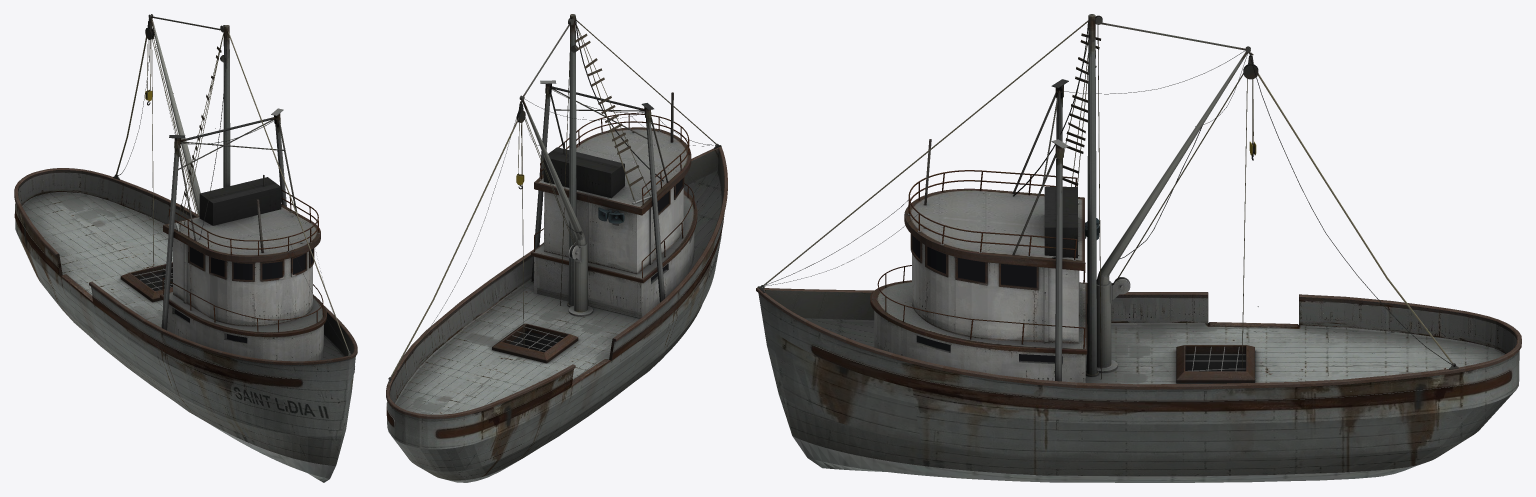
File: fishing-boat-CN_Vc8Yf.gltf
3 views of the same model, side by side, from view 1: azimuth 30°, elevation 25°; view 2: azimuth 150°, elevation 25°; view 3: azimuth 270°, elevation 25° (orthographic). The views are drawn at different scales.
Bounding box in the file's own units: 0.7295 × 1.69 × 2.5.
2 materials, 2 textured.
